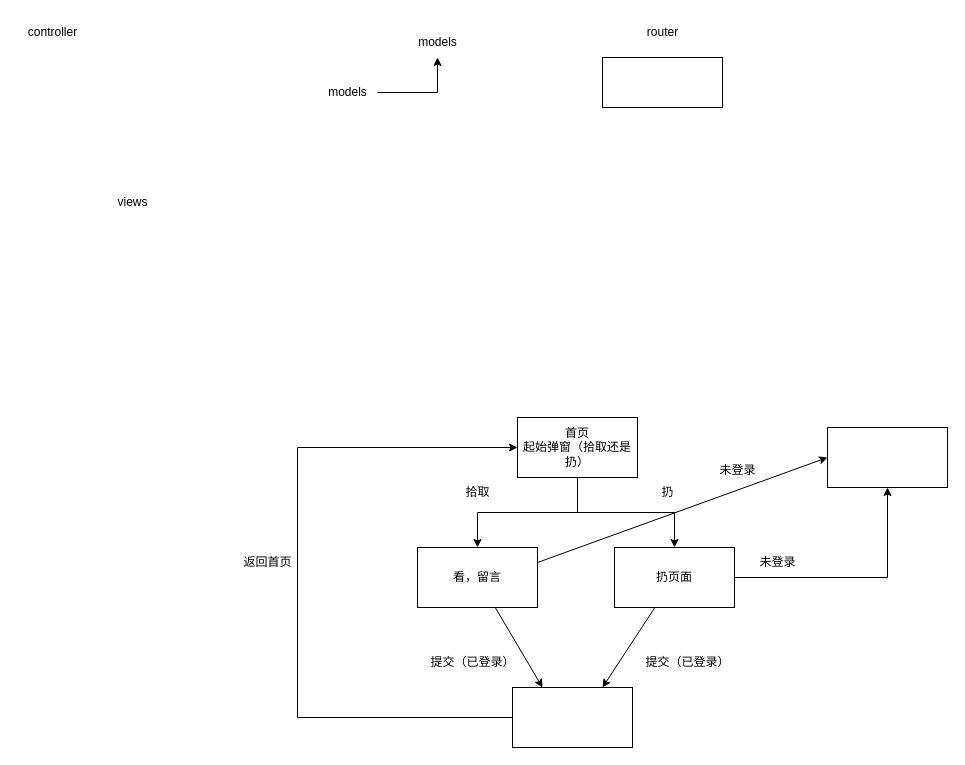
Image size: 965x765. Some labels were removed from this diagram. Each missing label, with the box of its shape:
提交成功: (512, 686, 632, 748)
注册/登录页: (826, 426, 948, 488)
